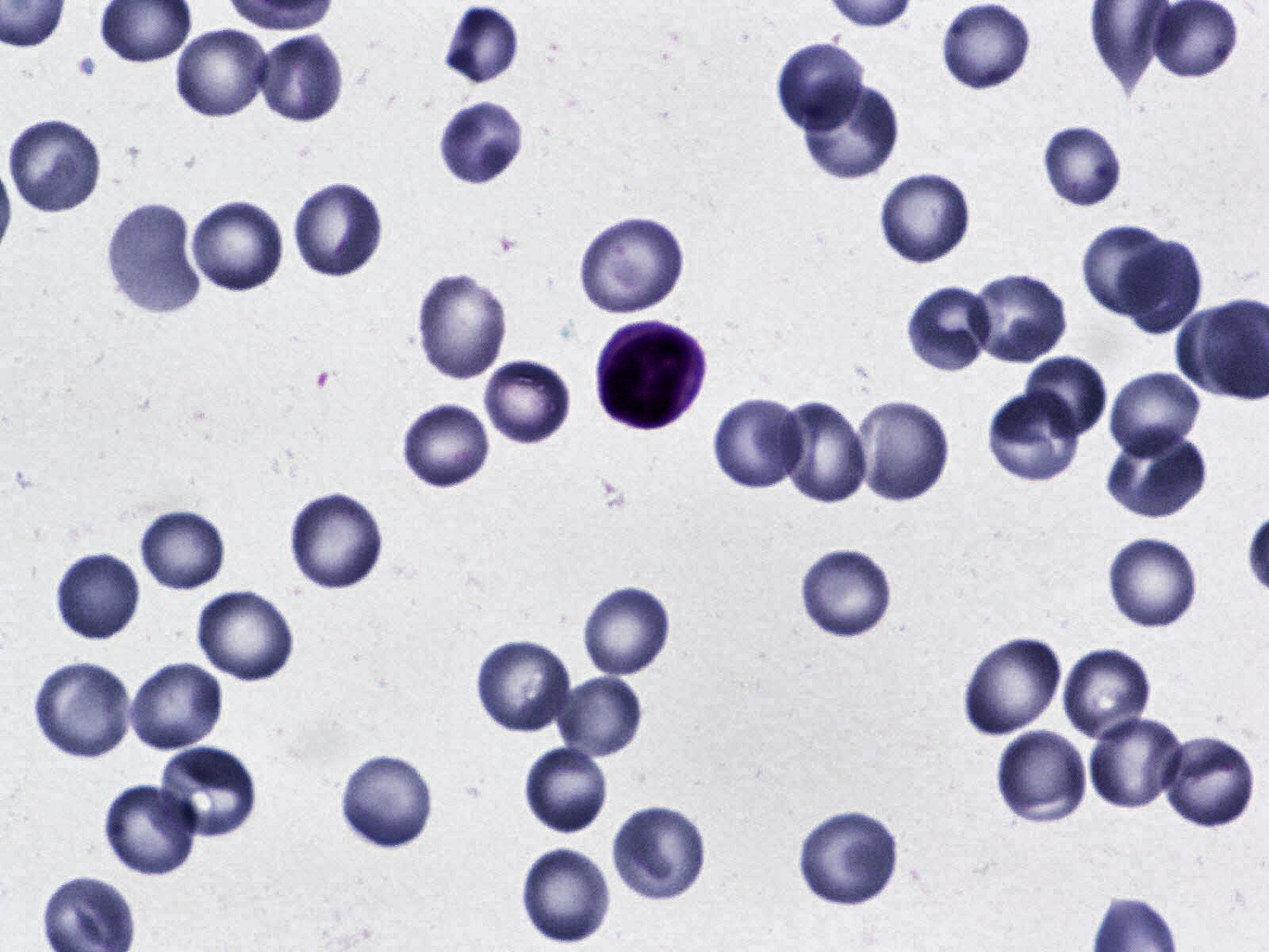Infected: (592, 319, 711, 428)
Uninfected: (960, 631, 1066, 739), (29, 656, 135, 760), (193, 582, 297, 686), (770, 397, 872, 503), (417, 266, 509, 383), (108, 202, 201, 316), (578, 217, 688, 313), (851, 397, 950, 503), (796, 808, 901, 907), (186, 195, 289, 295), (125, 658, 231, 753), (286, 490, 386, 590), (470, 638, 574, 734), (984, 387, 1085, 485), (518, 843, 615, 945), (964, 271, 1071, 363), (290, 179, 387, 279), (803, 80, 899, 180), (342, 749, 435, 852), (608, 807, 711, 900), (1087, 714, 1184, 812), (1160, 731, 1257, 829), (1083, 222, 1179, 321), (151, 747, 259, 834), (3, 118, 104, 211), (711, 392, 806, 490), (249, 31, 347, 125), (1110, 429, 1211, 520), (102, 782, 201, 874), (1103, 370, 1202, 462), (1110, 240, 1209, 332), (171, 24, 268, 117), (878, 171, 976, 263), (520, 740, 614, 835), (1106, 534, 1199, 630), (398, 399, 493, 490), (778, 36, 868, 132), (801, 547, 893, 639), (582, 585, 673, 677), (551, 667, 639, 761), (1063, 646, 1153, 737), (481, 354, 573, 442), (994, 735, 1082, 827), (908, 285, 997, 374), (56, 553, 144, 643), (941, 2, 1031, 90), (435, 102, 528, 187), (1177, 308, 1262, 398), (1152, 0, 1241, 85), (138, 512, 231, 592), (1043, 125, 1126, 209), (1022, 356, 1106, 436), (440, 4, 520, 82)
